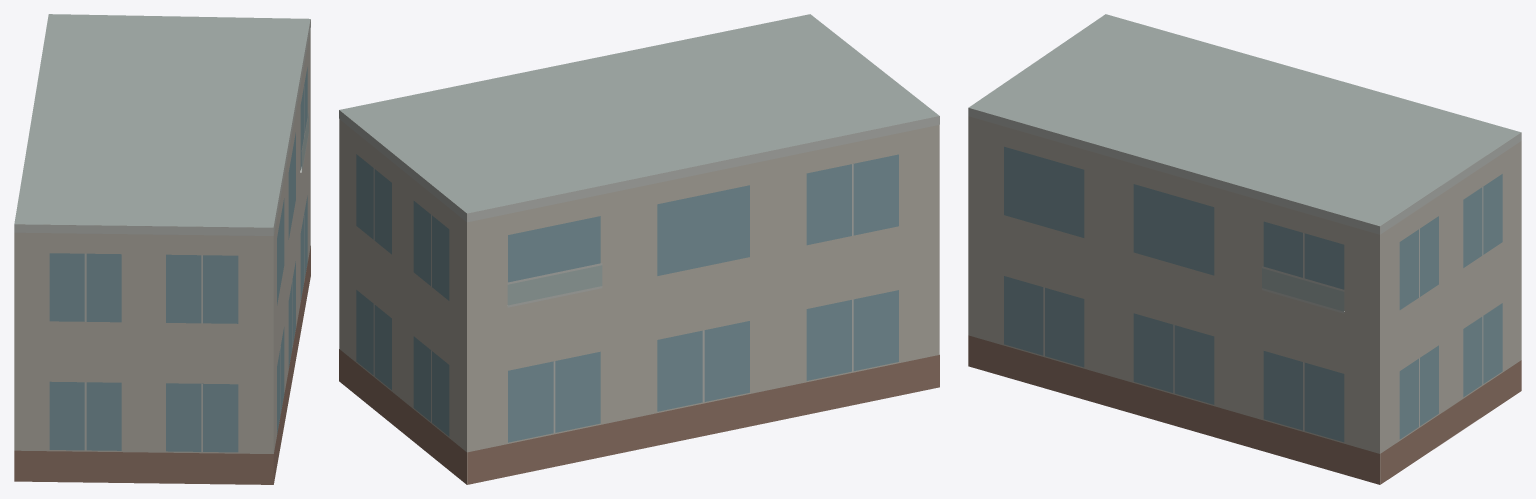
The model's file is survey-upis-32731729.glb.
The picture shows the model from 3 angles, left to right: view 1: azimuth 30°, elevation 25°; view 2: azimuth 150°, elevation 25°; view 3: azimuth 270°, elevation 25°; orthographic projection. The views are drawn at different scales.
Parts seen in each view (by area): view 1: survey-upis-32731729.tmp; view 2: survey-upis-32731729.tmp; view 3: survey-upis-32731729.tmp.
Part boxes in pixels (x1,y1,x2,y2): survey-upis-32731729.tmp: (14,14,310,484); survey-upis-32731729.tmp: (339,14,939,484); survey-upis-32731729.tmp: (968,14,1521,484).
Size of the model in its own units: 13.22 by 7.5 by 14.56.
